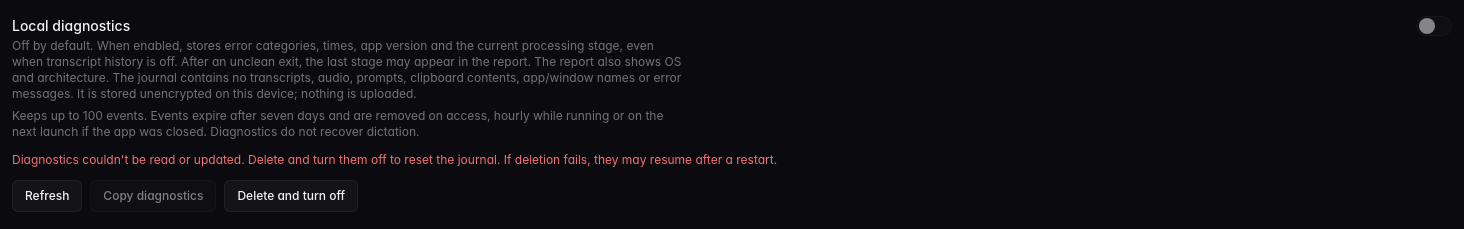
local diagnostics settings › offers deletion when the stored journal cannot be read
Expected: the message shows "couldn't be read", [12, 152, 777, 167]
What coordinates should you click on to do the following:
click the button "Delete and turn off"
I would click on:
 (291, 196)
Its box is [224, 180, 358, 212].
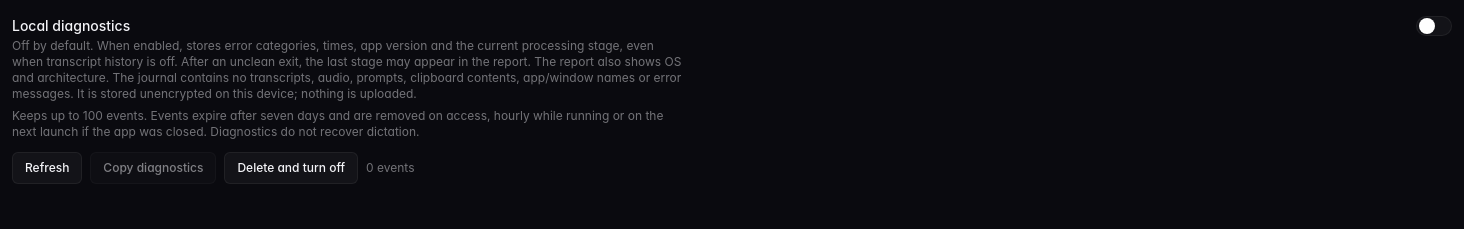
Now the message is gone
